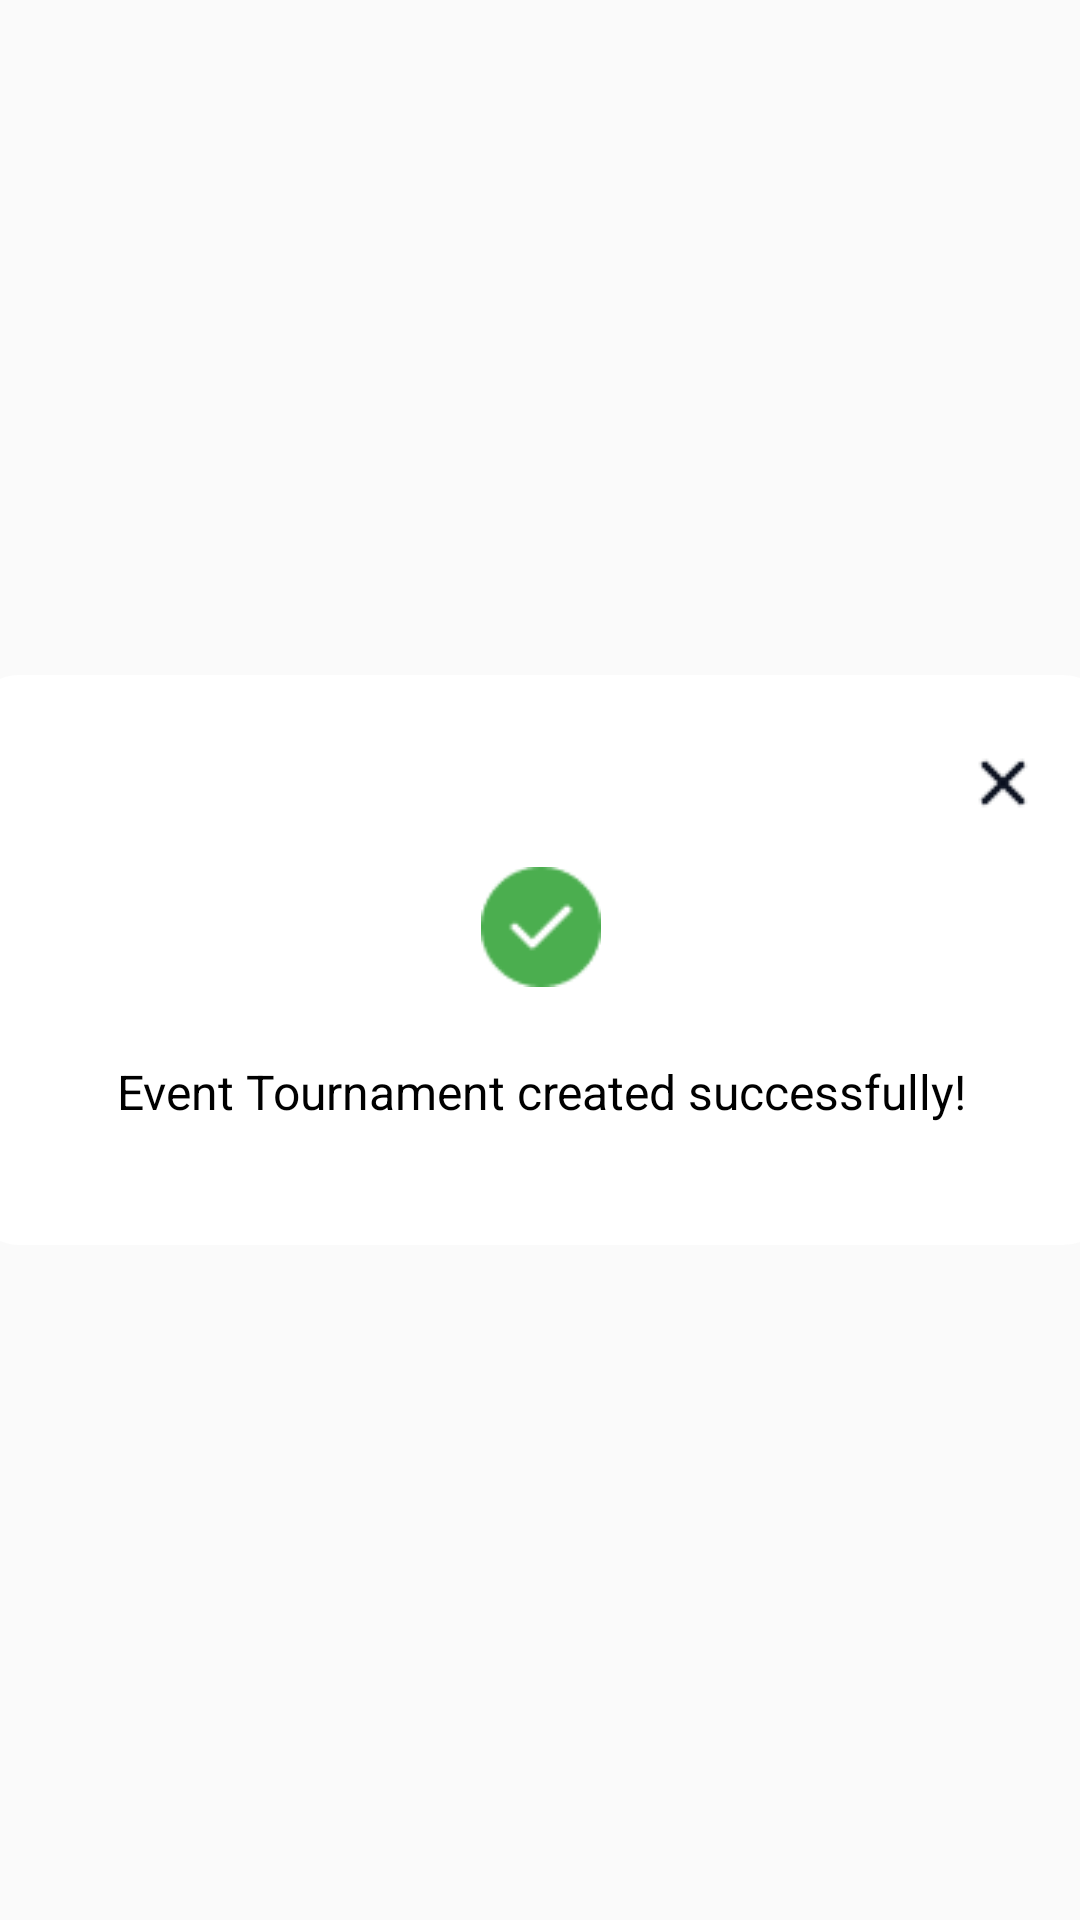

Locate icon controls on the screen. Image size 1080×1920, boxes as (x1, y1, x2, y2).
Close: (980, 760, 1026, 806)
